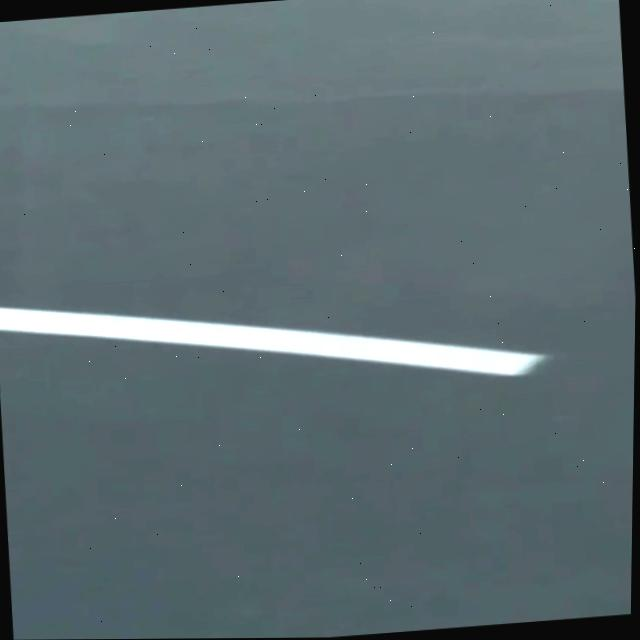center: (0, 306, 545, 375)
